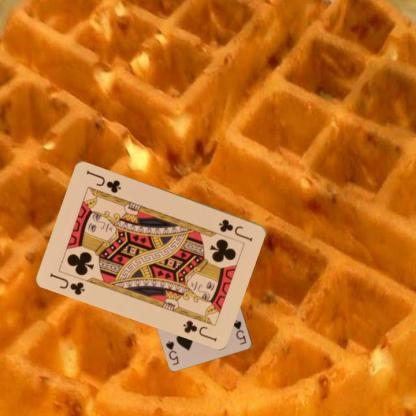5s: (230, 318, 248, 346)
Jc: (47, 270, 87, 296), (216, 216, 254, 243)
